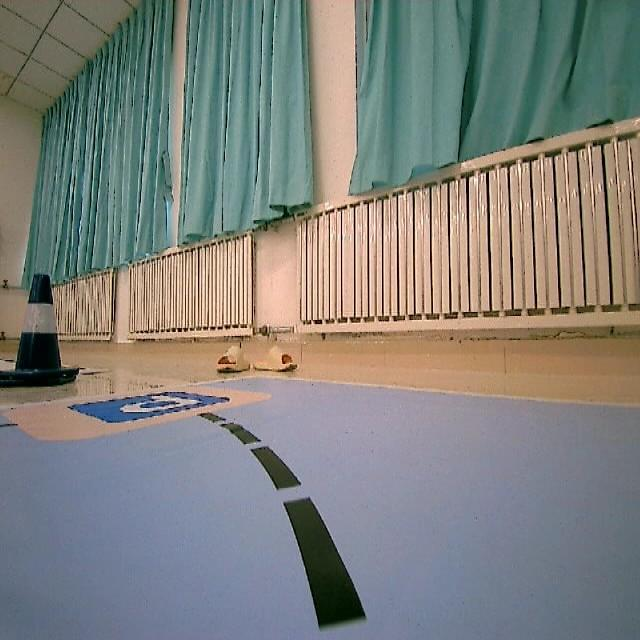obstacle: (0, 273, 83, 391)
